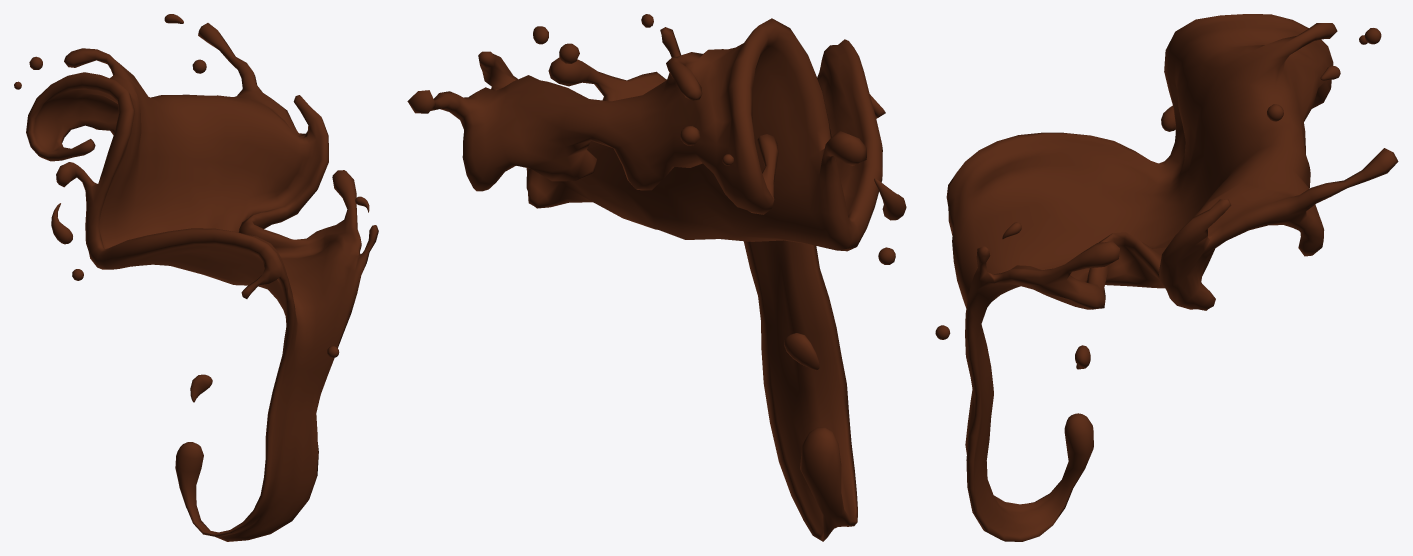
The picture shows the model from 3 angles, left to right: view 1: azimuth 30°, elevation 25°; view 2: azimuth 150°, elevation 25°; view 3: azimuth 270°, elevation 25°; orthographic projection. The views are drawn at different scales.
Visible parts, largest first — view 1: chocolate_splash_free_004_grp; view 2: chocolate_splash_free_004_grp; view 3: chocolate_splash_free_004_grp.
Part boxes in pixels (x1=…): chocolate_splash_free_004_grp: x1=14, y1=14, x2=378, y2=541; chocolate_splash_free_004_grp: x1=407, y1=14, x2=906, y2=541; chocolate_splash_free_004_grp: x1=935, y1=14, x2=1398, y2=541.
Size of the model in its own units: 22.03 by 32 by 26.33.
1 material, 1 textured.
